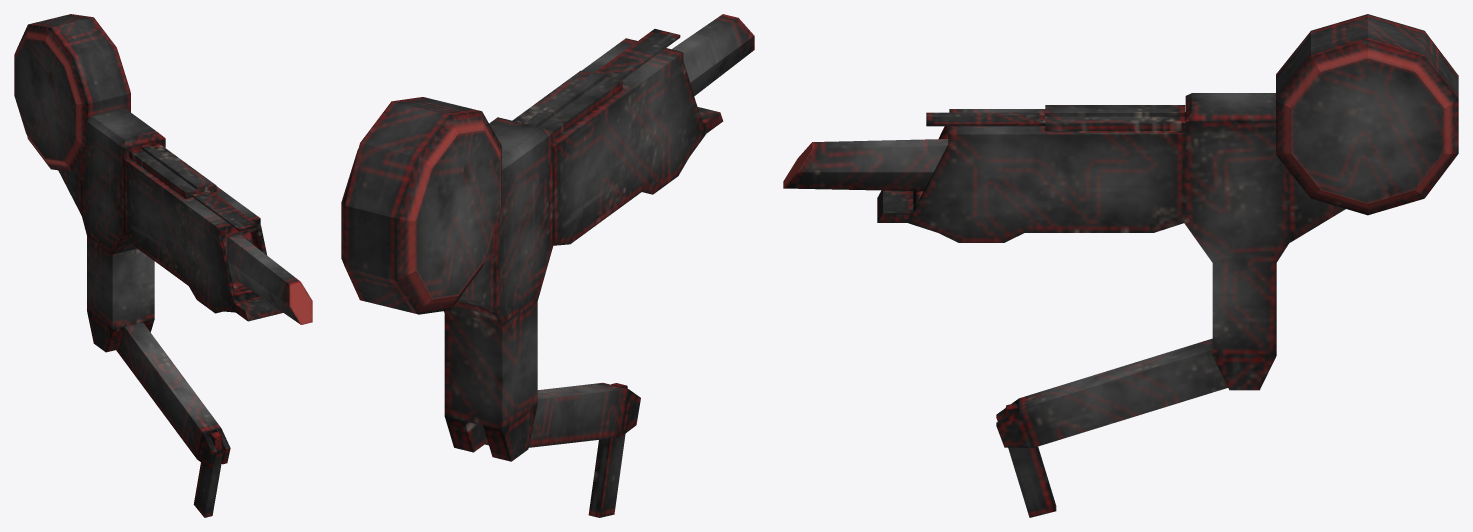
File: WP_ShoulderLaser.glb
3 renders of one model, left to right at view 1: azimuth 30°, elevation 25°; view 2: azimuth 150°, elevation 25°; view 3: azimuth 270°, elevation 25°, orthographic. The views are drawn at different scales.
Parts seen in each view (by area): view 1: WP_ShoulderLaser; view 2: WP_ShoulderLaser; view 3: WP_ShoulderLaser.
Part boxes in pixels (x1=…): WP_ShoulderLaser: x1=14, y1=14, x2=312, y2=517; WP_ShoulderLaser: x1=341, y1=14, x2=754, y2=517; WP_ShoulderLaser: x1=783, y1=14, x2=1458, y2=517.
Bounding box in the file's own units: 1.3 × 9.01 × 11.28.
Materials: 1 (1 with a texture image).
